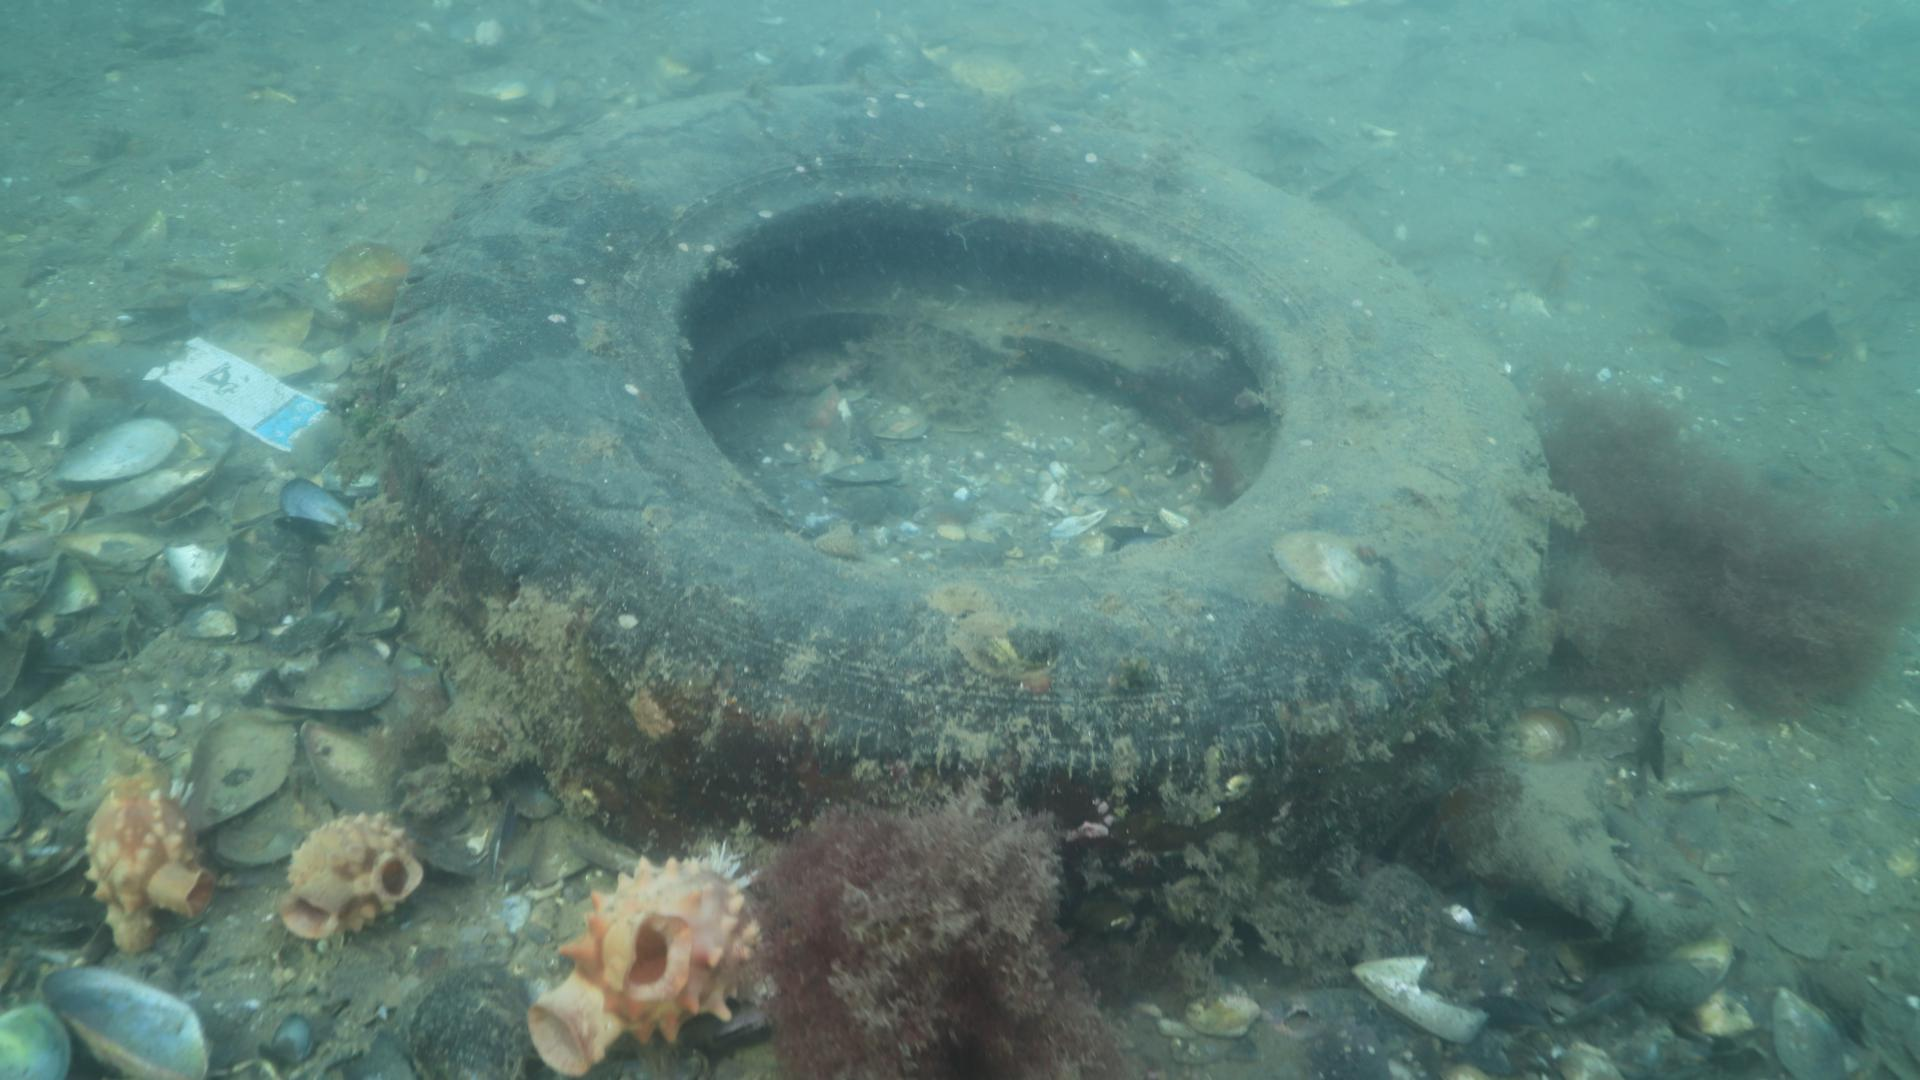tire: (377, 80, 1551, 936)
